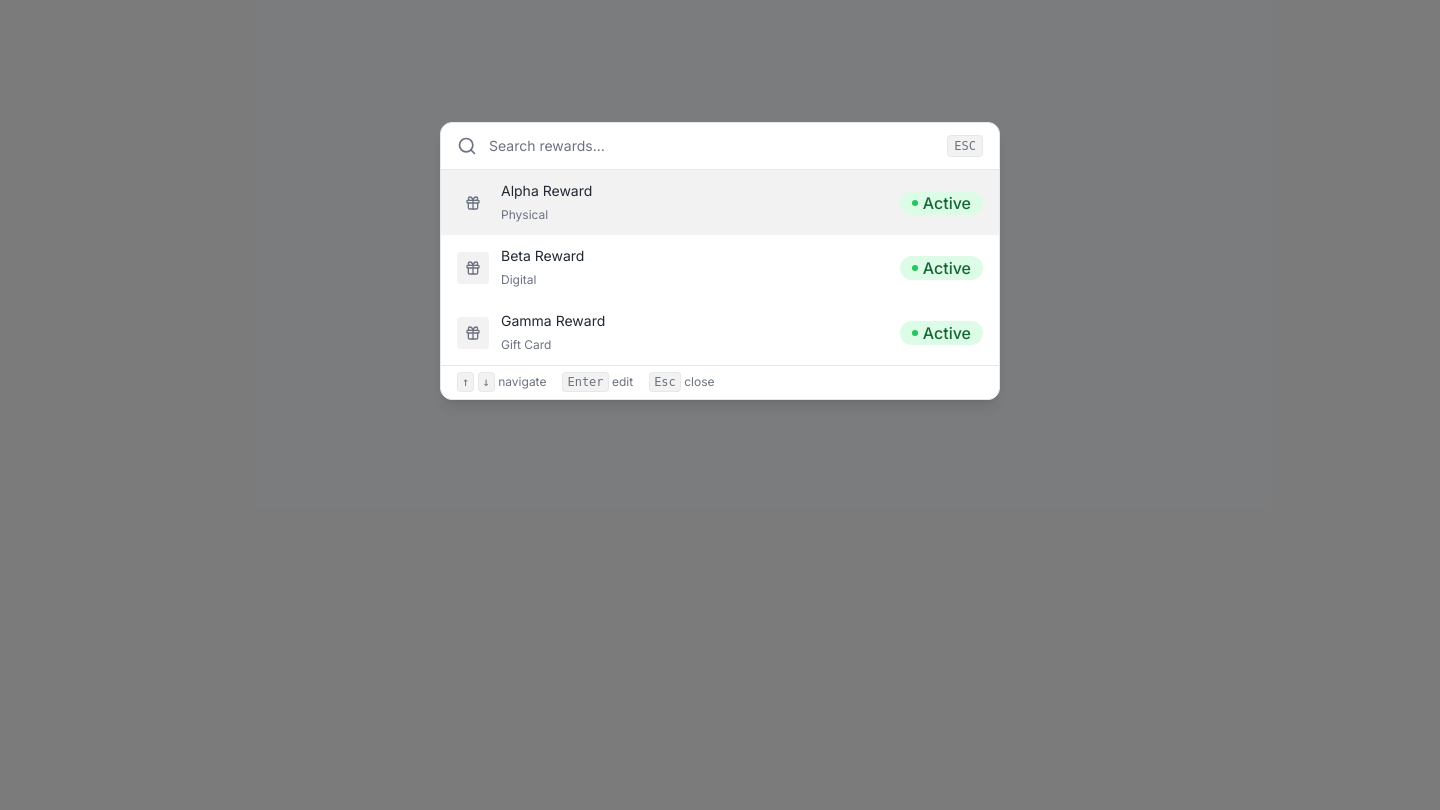
Test: QuickSearch › shows no results when search matches nothing
The width and height of the screenshot is (1440, 810).
Type "zzzzzzz" into the field with placeholder "Search rewards...".
click(712, 146); type("zzzzzzz")  # box [489,135,935,156]
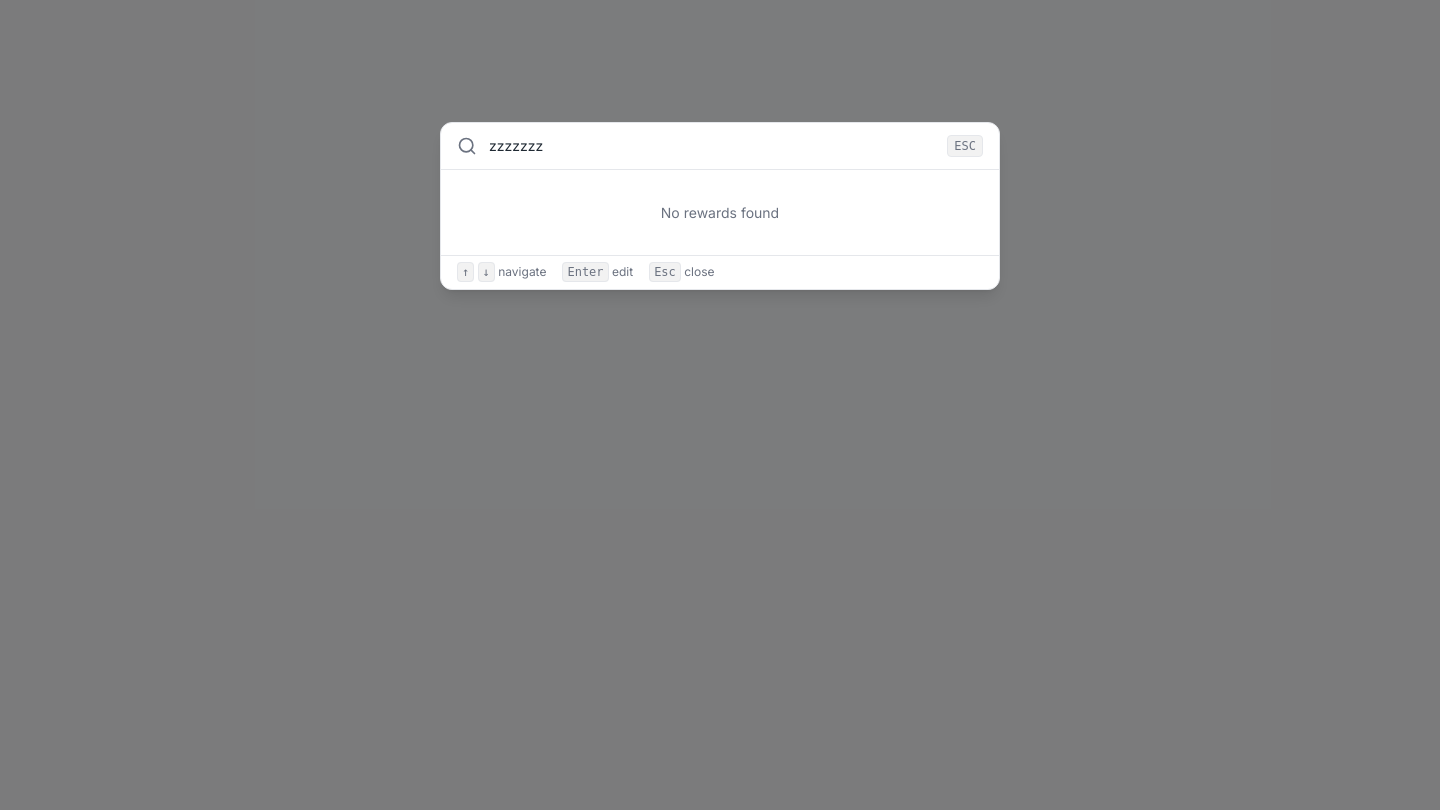
Now the text "No rewards found" is shown, box [661,204,779,221]
